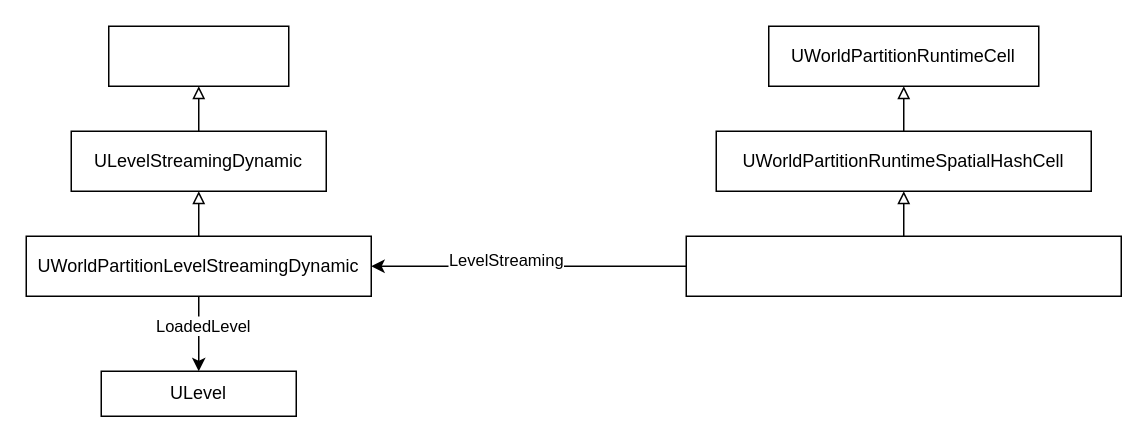
Image size: 1148x443. Some labels were removed from this diagram. Here are the shapes that lost their labels. From the top down, the box of each, then its label:
(107, 25, 289, 86): ULevelStreaming
(685, 235, 1121, 296): UWorldPartitionRuntimeLevelStreamingCell
